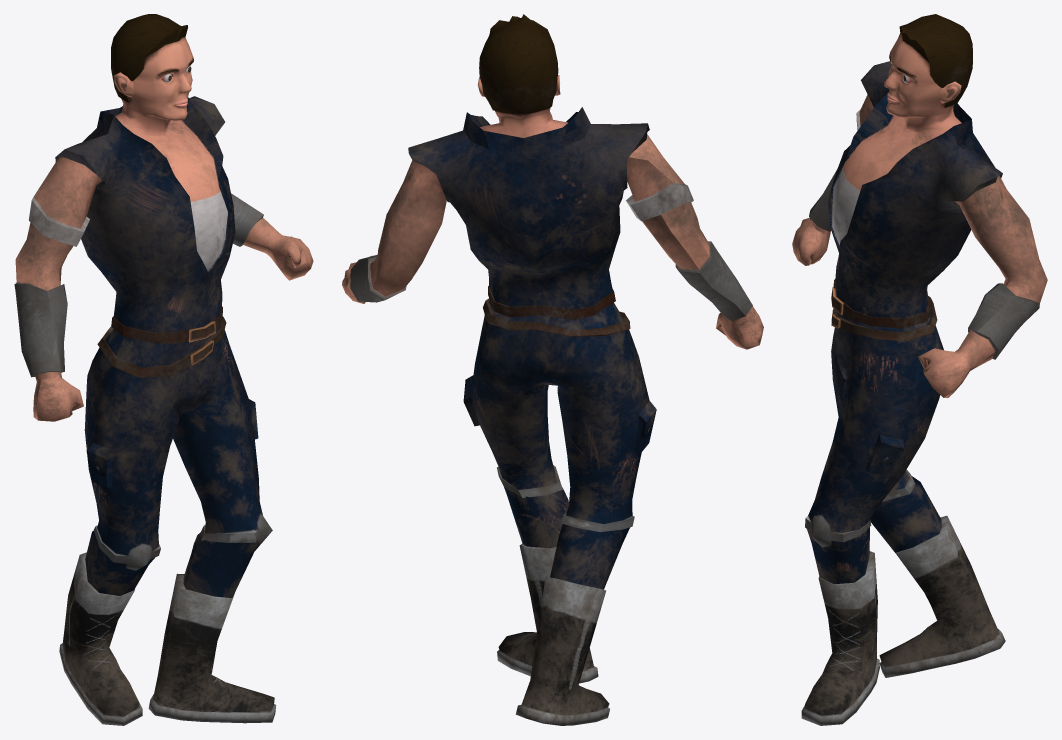
Rendered from Anim_ataque_f2_jugador.0013.obj.
3 views of the same model, side by side, from view 1: azimuth 30°, elevation 25°; view 2: azimuth 150°, elevation 25°; view 3: azimuth 270°, elevation 25° (orthographic). The views are drawn at different scales.
Visible parts, largest first — view 1: polySurface1; view 2: polySurface1; view 3: polySurface1.
Part boxes in pixels (bbox=[...]): polySurface1: bbox=[14, 14, 313, 725]; polySurface1: bbox=[342, 14, 763, 725]; polySurface1: bbox=[792, 14, 1047, 725].
Bounding box in the file's own units: 5.02 × 9.52 × 3.25.
